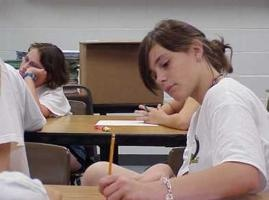person without safety: (136, 14, 257, 191), (13, 36, 69, 100)
